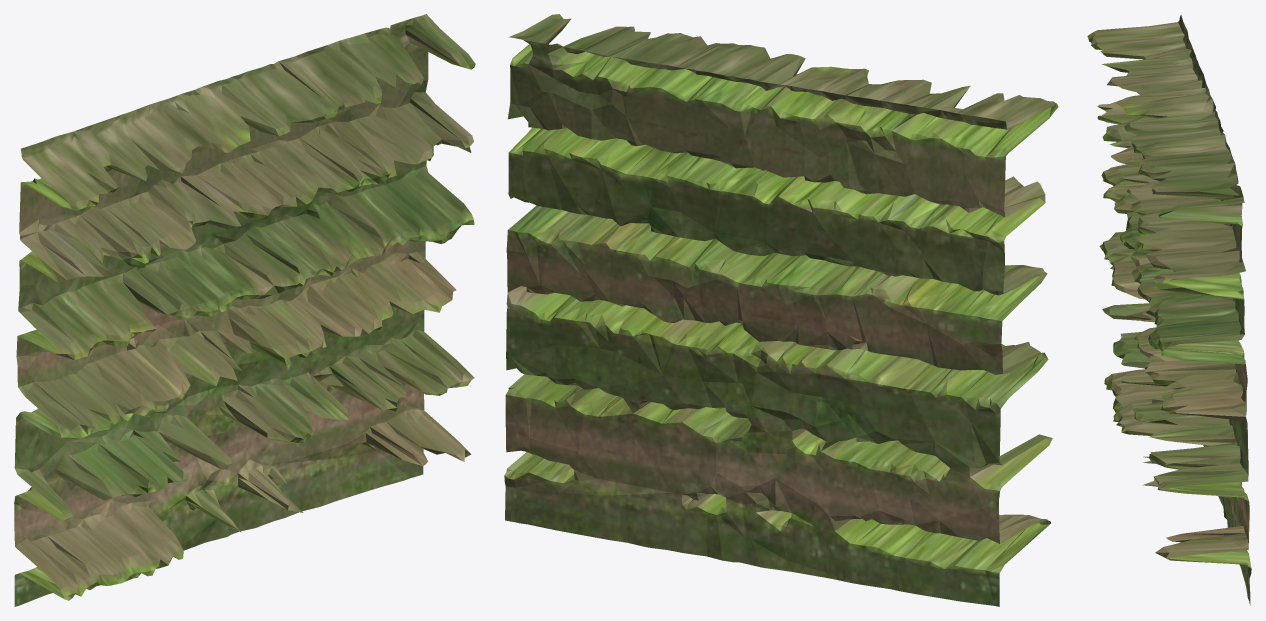
File: map_240_60.obj
The picture shows the model from 3 angles, left to right: view 1: azimuth 30°, elevation 25°; view 2: azimuth 150°, elevation 25°; view 3: azimuth 270°, elevation 25°; orthographic projection. The views are drawn at different scales.
Visible parts, largest first — view 1: grp1; view 2: grp1; view 3: grp1.
Boxes of the visible parts, <box> form: grp1: <box>14,14,475,606</box>; grp1: <box>504,14,1058,606</box>; grp1: <box>1087,15,1251,605</box>.
Bounding box in the file's own units: 10 × 10 × 3.68.
Materials: 1 (1 with a texture image).
